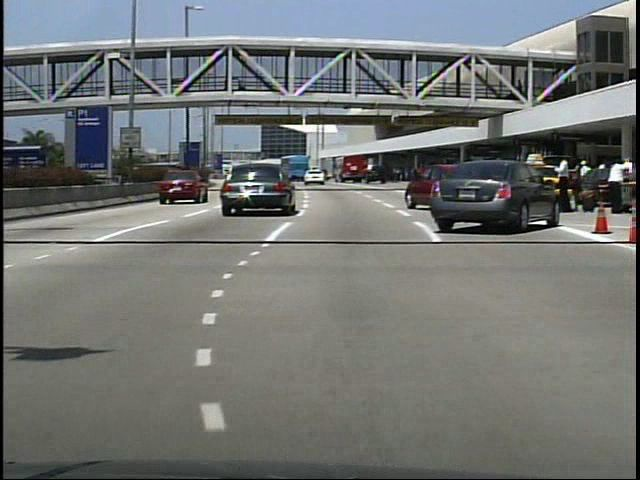person: (548, 154, 572, 215), (602, 160, 626, 213), (575, 159, 593, 211), (221, 69, 233, 94)
